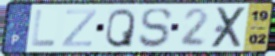2: (179, 6, 210, 48)
L: (30, 9, 57, 49)
Q: (104, 7, 137, 49)
S: (137, 6, 174, 49)
X: (209, 5, 249, 50)
Z: (60, 8, 99, 49)
